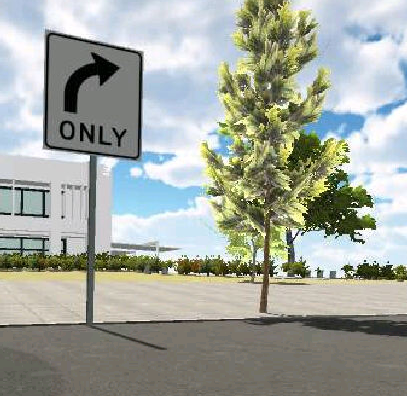arrow_right: (61, 52, 124, 117)
